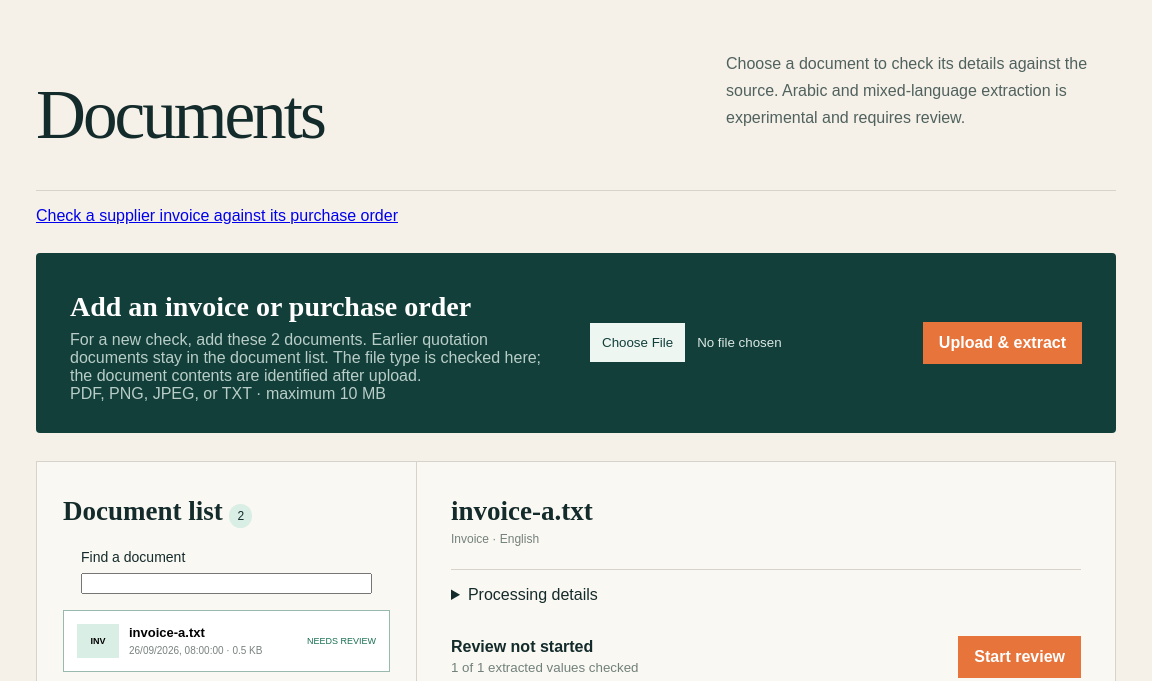
Test: document selection isolates asynchronous review work › keeps the current selection when a pending Start review finishes for the previous document
The image size is (1152, 681).
Click the button "Start review" at (1020, 657), box [958,636,1081,678]
(page scrolled)
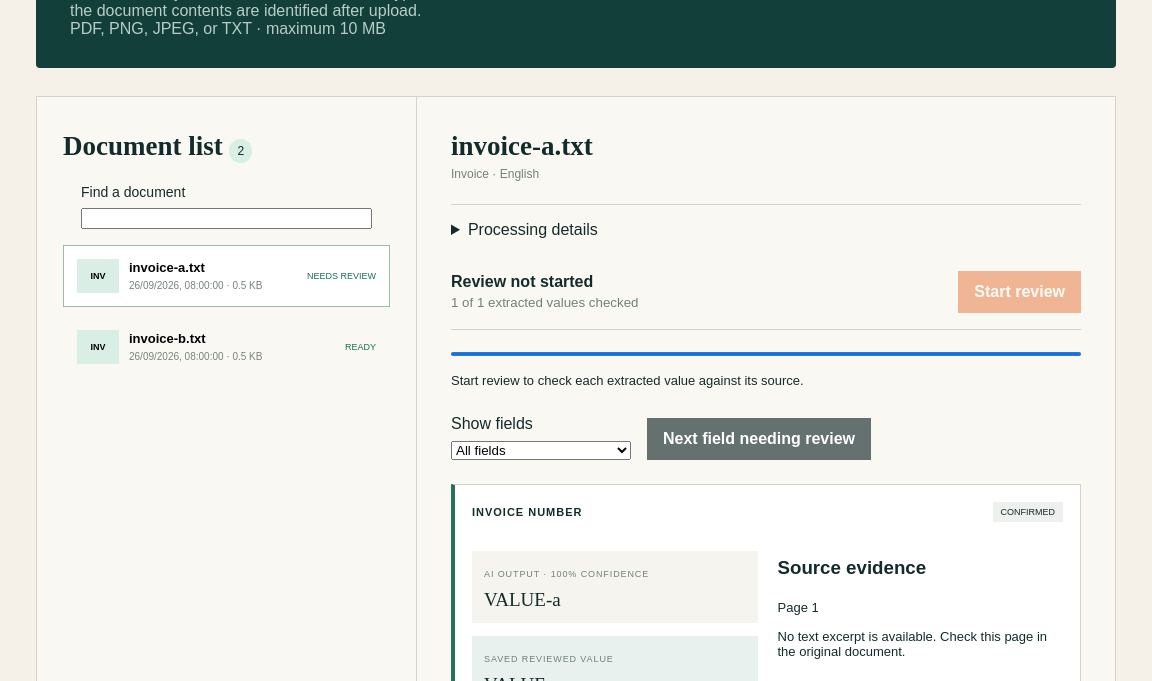
Click the button "INV invoice-b.txt 26/09/2026, 08:00:00 · 0.5 KB Ready" at (98, 347), box [63,316,390,378]
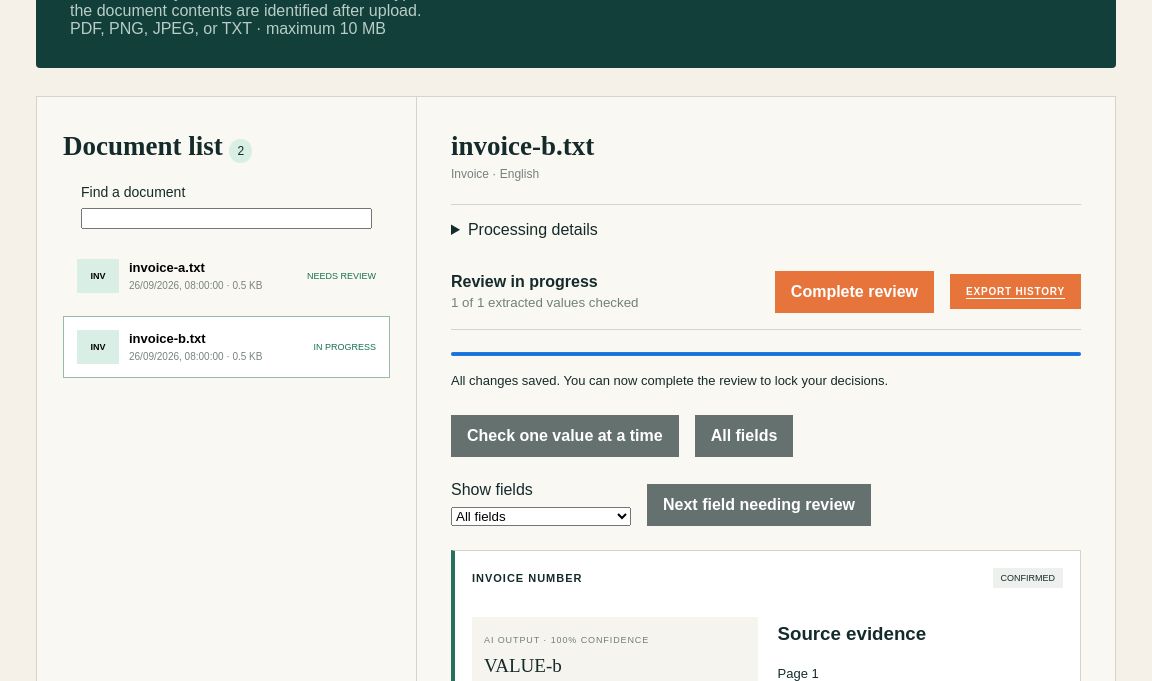
Now the heading "invoice-b.txt" is shown, box [451,131,594,162]
Now the text "VALUE-a" is gone
Now the button "Complete review" is enabled, box [775,271,934,313]
